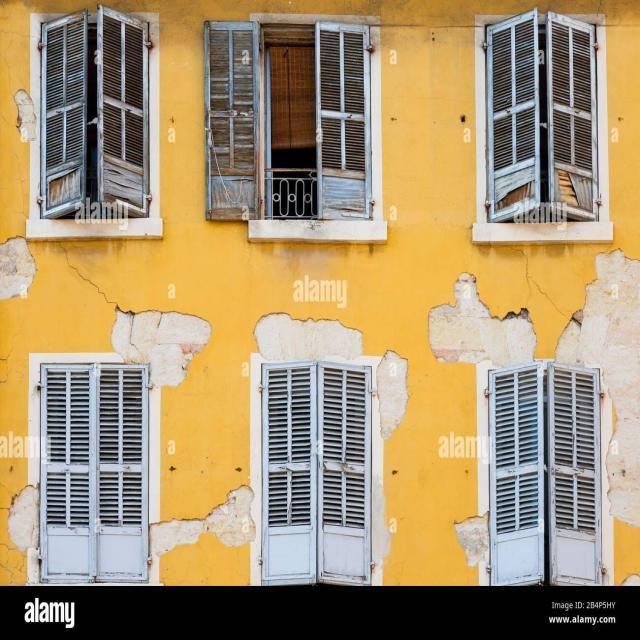Paint peeling: (432, 242, 639, 515), (254, 307, 399, 432), (116, 305, 210, 387), (163, 480, 253, 554), (5, 235, 42, 302)
